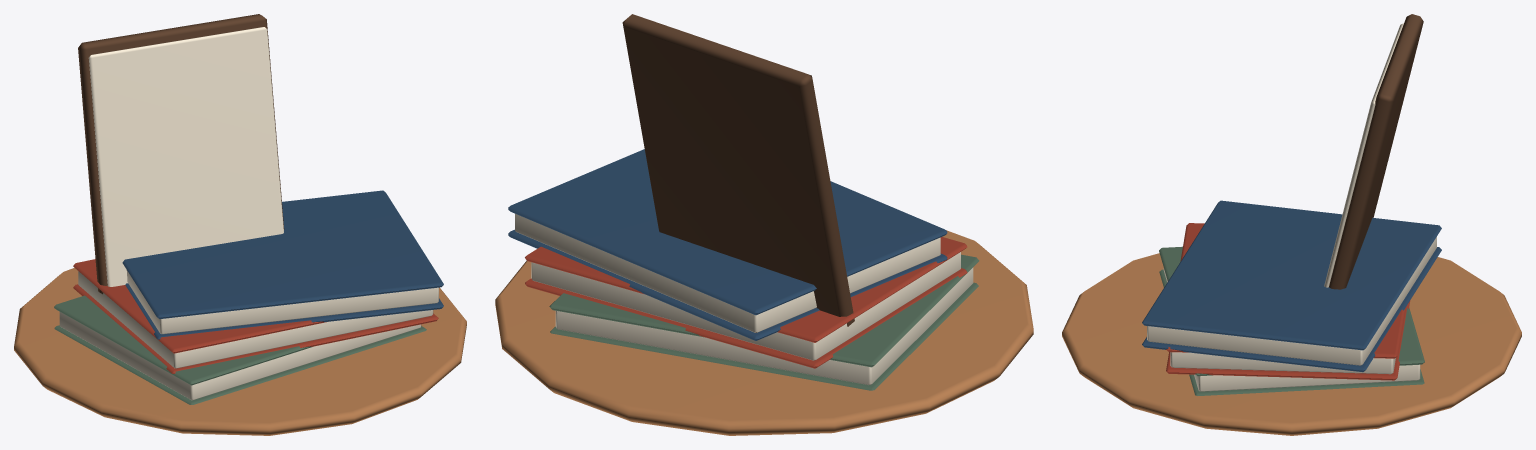
File: papers.glb
The picture shows the model from 3 angles, left to right: view 1: azimuth 30°, elevation 25°; view 2: azimuth 150°, elevation 25°; view 3: azimuth 270°, elevation 25°; orthographic projection. The views are drawn at different scales.
Parts seen in each view (by area): view 1: Cube.010, Cone, Cube.008, Cube.009, Cube, Cube.003, Cube.006, Cube.002, Cube.005, Cube.001, Cube.004, Cube.007; view 2: Cube.009, Cone, Cube.008, Cube.006, Cube, Cube.003, Cube.002, Cube.005, Cube.001, Cube.004, Cube.007; view 3: Cone, Cube.008, Cube.009, Cube.006, Cube, Cube.003, Cube.007, Cube.004, Cube.002, Cube.001, Cube.010, Cube.005.
Boxes of the visible parts, box(x1,y1,x2,y2) form: Cube.010: box(88, 27, 283, 286); Cone: box(14, 268, 466, 435); Cube.008: box(122, 190, 443, 319); Cube.009: box(78, 14, 284, 294); Cube: box(59, 312, 421, 400); Cube.003: box(78, 271, 433, 368); Cube.006: box(126, 270, 438, 334); Cube.002: box(54, 295, 312, 385); Cube.005: box(73, 259, 328, 353); Cube.001: box(54, 325, 426, 404); Cube.004: box(73, 284, 438, 373); Cube.007: box(125, 283, 443, 339); Cube.009: box(622, 14, 854, 326); Cone: box(495, 230, 1033, 435); Cube.008: box(508, 149, 947, 315); Cube.006: box(515, 213, 940, 332); Cube: box(555, 267, 973, 384); Cube.003: box(531, 252, 960, 360); Cube.002: box(549, 254, 979, 367); Cube.005: box(525, 237, 967, 342); Cube.001: box(550, 282, 978, 390); Cube.004: box(525, 268, 967, 368); Cube.007: box(508, 229, 947, 340); Cone: box(1062, 253, 1521, 435); Cube.008: box(1142, 200, 1441, 350); Cube.009: box(1329, 14, 1423, 289); Cube.006: box(1147, 237, 1436, 365); Cube: box(1163, 268, 1420, 391); Cube.003: box(1170, 352, 1395, 374); Cube.007: box(1142, 247, 1441, 372); Cube.004: box(1166, 300, 1410, 380); Cube.002: box(1159, 246, 1424, 376); Cube.001: box(1159, 269, 1424, 395); Cube.010: box(1324, 23, 1403, 287); Cube.005: box(1166, 223, 1405, 358).
Bounding box in the file's own units: 2.18 × 1.46 × 2.18.
